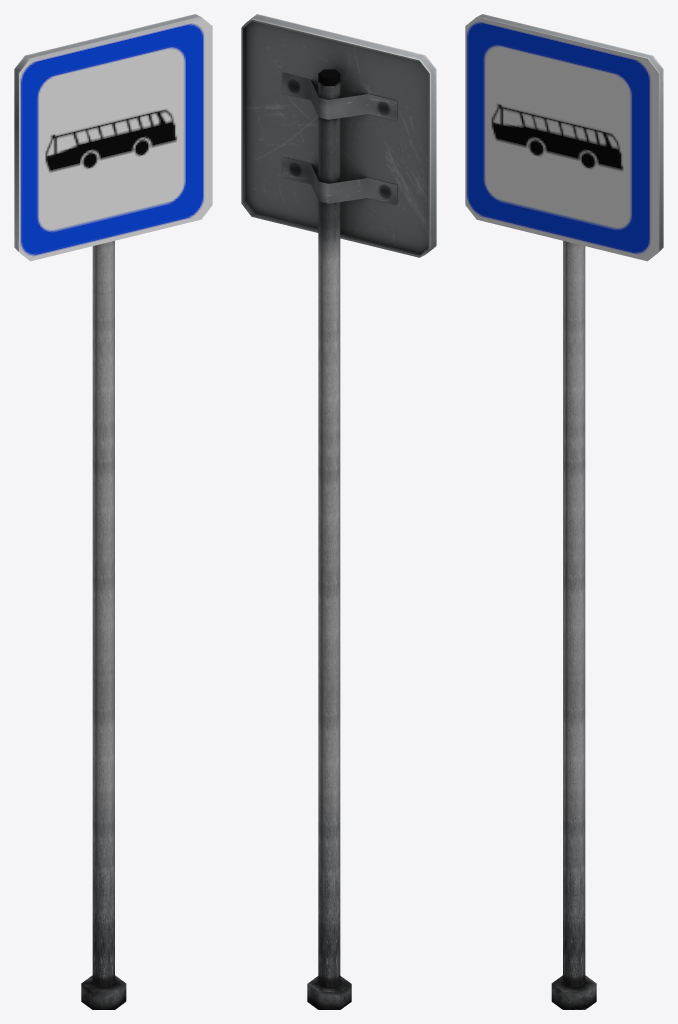
File: ROD0310033.FBX
3 views of the same model, side by side, from view 1: azimuth 30°, elevation 25°; view 2: azimuth 150°, elevation 25°; view 3: azimuth 330°, elevation 25° (orthographic).
Visible parts, largest first — view 1: smROD0310033; view 2: smROD0310033; view 3: smROD0310033.
Boxes of the visible parts, <box> form: smROD0310033: <box>14,14,212,1009</box>; smROD0310033: <box>241,14,436,1009</box>; smROD0310033: <box>465,14,663,1009</box>.
Bounding box in the file's own units: 0.5079 × 2.44 × 0.1057.
Materials: 1 (1 with a texture image).
